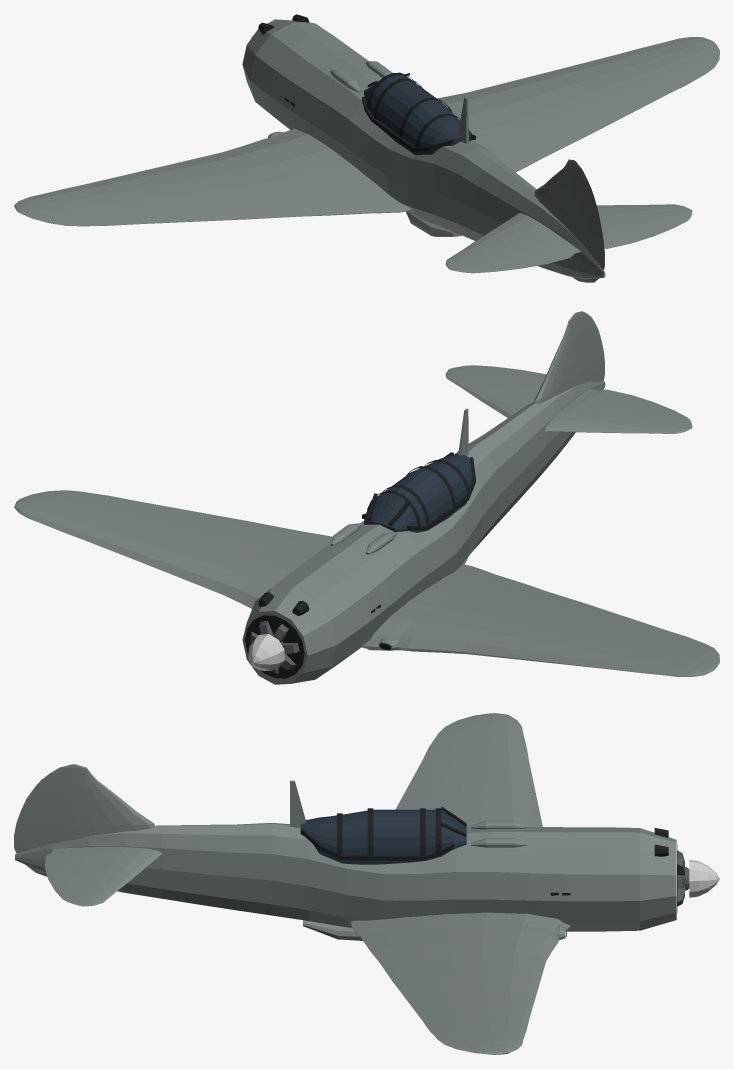
The picture shows the model from 3 angles, top to bottom: view 1: azimuth 30°, elevation 25°; view 2: azimuth 150°, elevation 25°; view 3: azimuth 270°, elevation 25°; orthographic projection.
Visible parts, largest first — view 1: Fuselage, Wing L, Wing R, Flap L, Cockpit Glass, Flap R, Stabilizer L, Rudder, Elevator L, Aileron R, Aileron L, Canopy Frame (+5 smaller); view 2: Fuselage, Wing L, Wing R, Cockpit Glass, Stabilizer L, Stabilizer R, Flap L, Vertical Fin, Flap R, Canopy Frame, Rudder, Elevator L (+7 smaller); view 3: Fuselage, Wing R, Wing L, Cockpit Glass, Rudder, Vertical Fin, Stabilizer R, Flap R, Canopy Frame, Elevator R, Aileron L, Aileron R (+4 smaller).
Part boxes in pixels (box(x1,y1,x2,y2)): Fuselage: box(242, 19, 605, 279); Wing L: box(14, 128, 411, 224); Wing R: box(437, 37, 719, 150); Flap L: box(185, 186, 390, 221); Cockpit Glass: box(364, 75, 472, 155); Flap R: box(490, 104, 620, 172); Stabilizer L: box(445, 213, 558, 269); Rudder: box(571, 161, 604, 282); Elevator L: box(449, 235, 580, 273); Aileron R: box(610, 55, 717, 115); Aileron L: box(49, 207, 192, 226); Canopy Frame: box(362, 72, 475, 152); Fuselage: box(242, 381, 605, 684); Wing L: box(361, 564, 719, 676); Wing R: box(14, 490, 321, 608); Cockpit Glass: box(364, 454, 472, 532); Stabilizer L: box(545, 400, 691, 433); Stabilizer R: box(445, 369, 539, 417); Flap L: box(455, 569, 619, 622); Vertical Fin: box(534, 313, 578, 403); Flap R: box(185, 512, 332, 549); Canopy Frame: box(362, 452, 475, 530); Rudder: box(575, 311, 604, 385); Elevator L: box(574, 389, 692, 427); Fuselage: box(15, 823, 676, 931); Wing R: box(351, 912, 570, 1054); Wing L: box(405, 713, 542, 827); Cockpit Glass: box(300, 809, 466, 864); Rudder: box(14, 764, 74, 876); Vertical Fin: box(74, 764, 154, 839); Stabilizer R: box(76, 847, 162, 906); Flap R: box(354, 922, 436, 997); Canopy Frame: box(300, 806, 466, 860); Elevator R: box(44, 847, 90, 906); Aileron L: box(407, 721, 467, 787); Aileron R: box(407, 997, 467, 1047).
Size of the model in its own units: 9.8 by 2.33 by 8.58.
